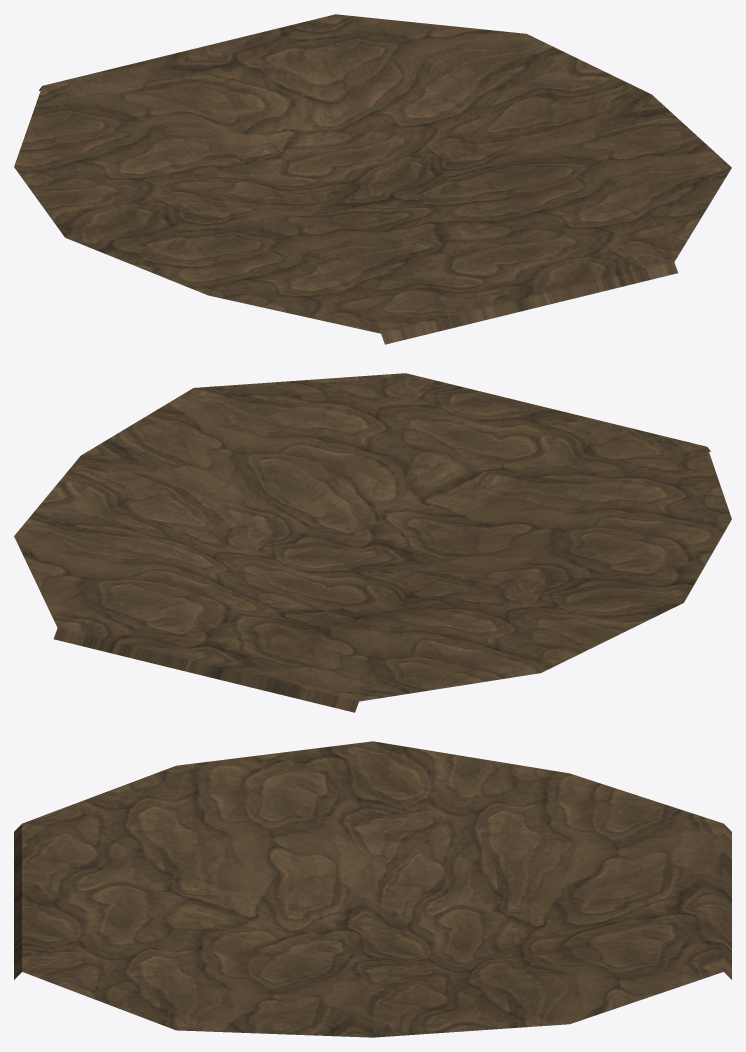
Rendered from cave floor round.FBX.
3 views of the same model, one above another, from view 1: azimuth 30°, elevation 25°; view 2: azimuth 150°, elevation 25°; view 3: azimuth 270°, elevation 25° (orthographic). The views are drawn at different scales.
Parts seen in each view (by area): view 1: cave floor round; view 2: cave floor round; view 3: cave floor round.
Part boxes in pixels (bbox=[...]): cave floor round: bbox=[14, 14, 731, 344]; cave floor round: bbox=[14, 373, 731, 712]; cave floor round: bbox=[14, 741, 731, 1037].
Bounding box in the file's own units: 40 × 2.1 × 40.93.
